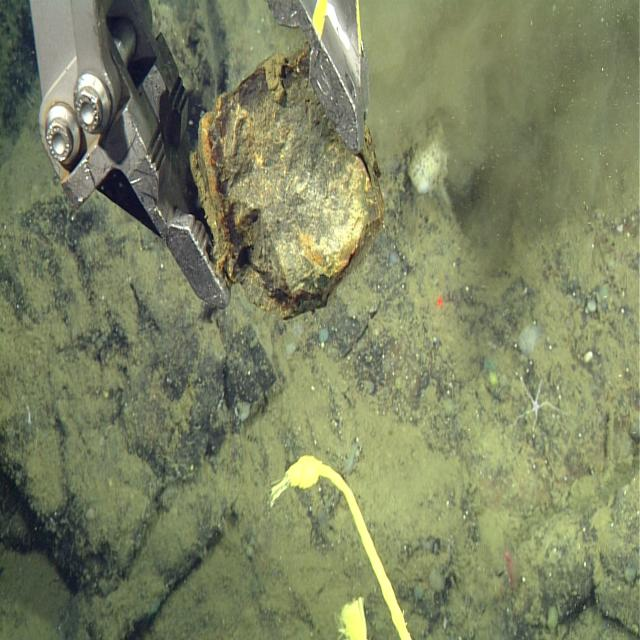Brittle Star: (510, 369, 567, 442)
